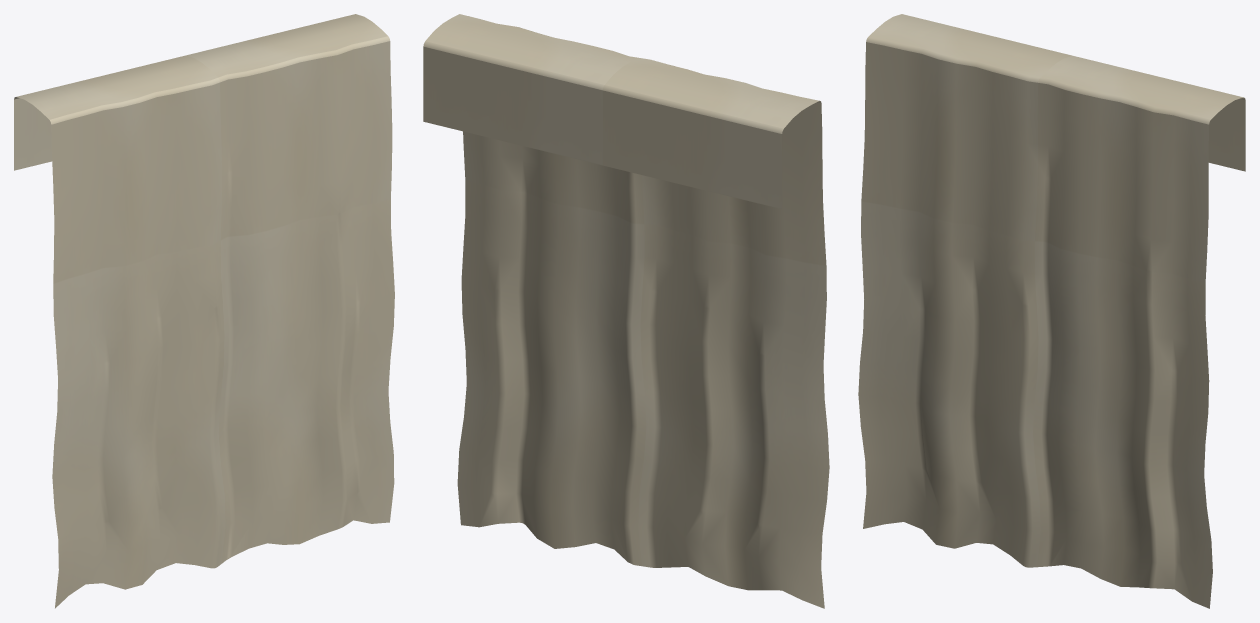
The model's file is VaiChePhuGuong_Ban.glb.
The picture shows the model from 3 angles, left to right: view 1: azimuth 30°, elevation 25°; view 2: azimuth 150°, elevation 25°; view 3: azimuth 330°, elevation 25°; orthographic projection. The views are drawn at different scales.
Visible parts, largest first — view 1: VaiChePhuGuong_Ban; view 2: VaiChePhuGuong_Ban; view 3: VaiChePhuGuong_Ban.
Boxes of the visible parts, <box> form: VaiChePhuGuong_Ban: <box>14,14,394,608</box>; VaiChePhuGuong_Ban: <box>423,14,829,608</box>; VaiChePhuGuong_Ban: <box>858,14,1245,608</box>.
Bounding box in the file's own units: 0.6843 × 0.92 × 0.1429.
Materials: 1 (1 with a texture image).
